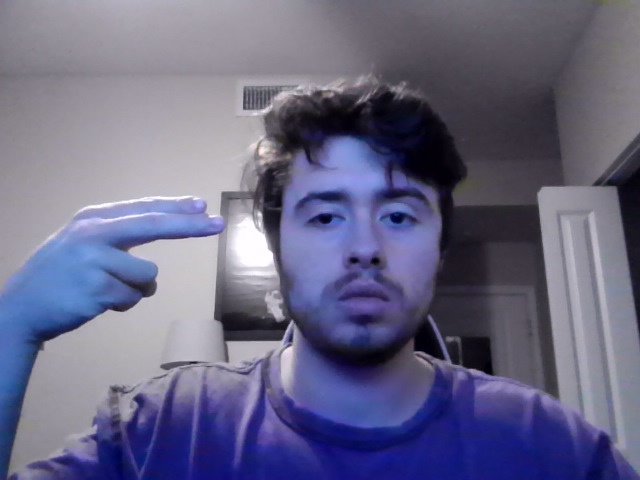h: (4, 194, 225, 347)
